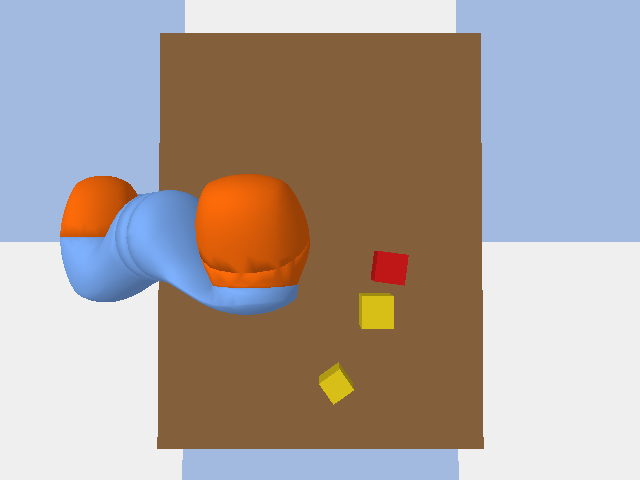red_obj: (371, 251, 408, 285)
yellow_obj: (319, 362, 353, 404), (359, 293, 393, 328)
